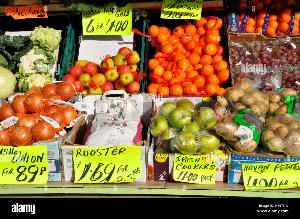apple: (144, 96, 222, 164), (68, 41, 144, 97)
onion: (0, 82, 72, 158)
orange: (149, 24, 231, 90), (238, 0, 300, 36)
